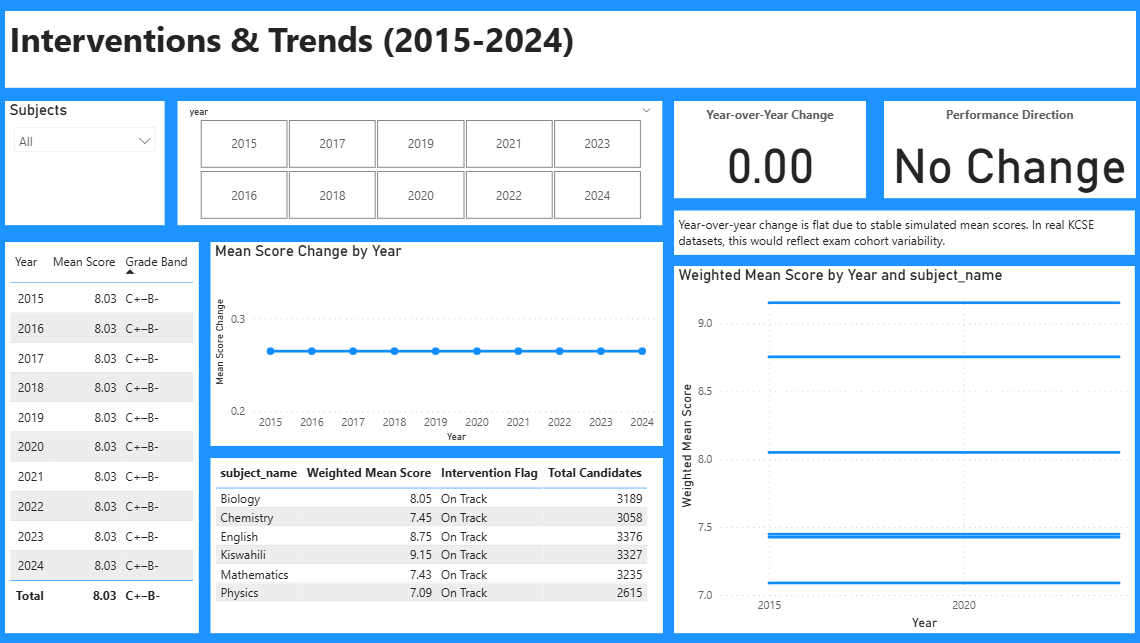

The dashboard page shown, as its layout file describes it:
{"tool":"powerbi","page":{"name":"Intervention & Trends","canvas":[1280,720],"ordinal":4},"visuals":[{"type":"slicer","fields":{"Values":["dim_year.year"]},"box":[202.2,113.4,538.6,138],"z":0},{"type":"slicer","title":"Subjects","fields":{"Values":["dim_subject.subject_name"]},"box":[9.4,113.4,177.6,138],"z":1000},{"type":"card","fields":{"Values":["dim_date.Mean Score YoY Change"]},"box":[754,113.4,213.5,107.7],"z":2000},{"type":"card","fields":{"Values":["dim_date.Performance Direction"]},"box":[986.5,113.4,279.7,107.7],"z":3000},{"type":"lineChart","fields":{"Category":["dim_date.Year"],"Y":["dim_gender.Weighted Mean Score"],"Series":["dim_subject.subject_name"]},"box":[754,296.7,512.1,408.2],"z":4000},{"type":"tableEx","fields":{"Values":["dim_subject.subject_name","dim_gender.Weighted Mean Score","dim_date.Intervention Flag","dim_gender.Total Candidates"]},"box":[238.1,510.2,502.7,194.6],"z":5000},{"type":"textbox","box":[9.4,13.2,1256.7,85],"z":6000},{"type":"lineChart","fields":{"Category":["dim_date.Year"],"Y":["dim_gender.Mean Score Change"]},"box":[238.1,270.2,502.7,226.8],"z":7000},{"type":"tableEx","fields":{"Values":["dim_date.Year","dim_gender.Mean Score","dim_gender.Grade Band"]},"box":[9.4,270.2,215.4,434.6],"z":8000},{"type":"textbox","box":[754,234.3,512.1,49.1],"z":9000}]}

Visuals, with their boxes in screenshot pixels (x1, y1, x2, y2), scaled from the page's 1280x720 canvas onto the 1140x643 screenshot:
slicer - dim_year.year: l=180, t=101, r=660, b=225
"Subjects" slicer: l=8, t=101, r=167, b=225
card - dim_date.Mean Score YoY Change: l=672, t=101, r=862, b=197
card - dim_date.Performance Direction: l=879, t=101, r=1128, b=197
lineChart - dim_date.Year x dim_gender.Weighted Mean Score: l=672, t=265, r=1128, b=630
tableEx - dim_subject.subject_name x dim_gender.Weighted Mean Score: l=212, t=456, r=660, b=629
textbox: l=8, t=12, r=1128, b=88
lineChart - dim_date.Year x dim_gender.Mean Score Change: l=212, t=241, r=660, b=444
tableEx - dim_date.Year x dim_gender.Mean Score: l=8, t=241, r=200, b=629
textbox: l=672, t=209, r=1128, b=253
